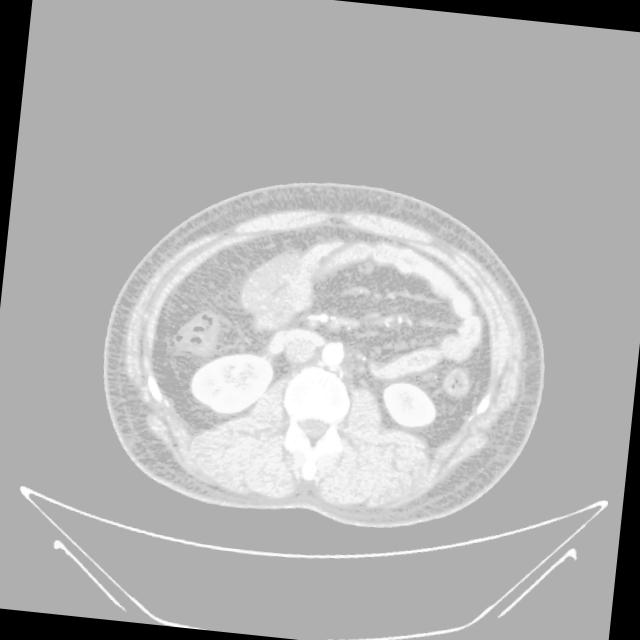NORMAL: (80, 151, 568, 545)
